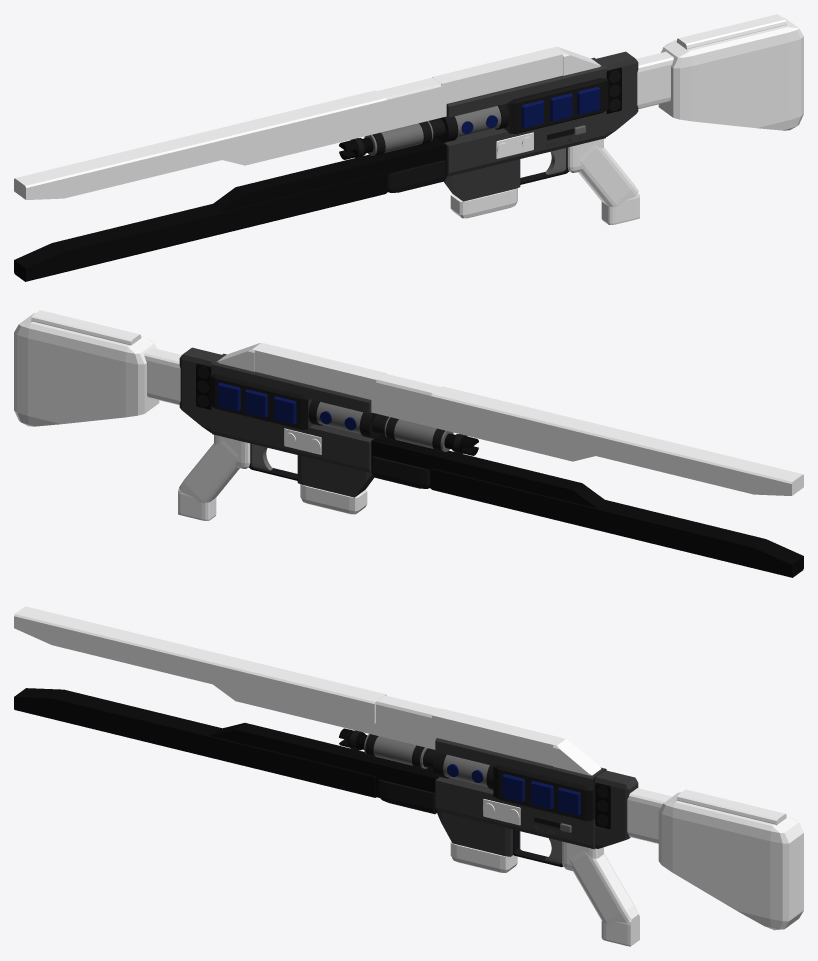
File: Plamsa Gun.fbx
The picture shows the model from 3 angles, top to bottom: view 1: azimuth 30°, elevation 25°; view 2: azimuth 150°, elevation 25°; view 3: azimuth 330°, elevation 25°; orthographic projection.
Visible parts, largest first — view 1: node_id64, node_id67, node_id58, node_id46, node_id37, node_id30, node_id52, node_id49, node_id61, node_id34, node_id43, node_id40; view 2: node_id64, node_id67, node_id58, node_id46, node_id37, node_id30, node_id52, node_id49, node_id61, node_id34, node_id43, node_id40; view 3: node_id58, node_id67, node_id64, node_id46, node_id37, node_id30, node_id52, node_id49, node_id61, node_id34, node_id43, node_id40.
Boxes of the visible parts, left/top/right/bottom form: node_id64: left=14, top=138, right=446, bottom=281; node_id67: left=14, top=77, right=456, bottom=199; node_id58: left=636, top=14, right=803, bottom=130; node_id46: left=444, top=51, right=638, bottom=176; node_id37: left=432, top=47, right=600, bottom=101; node_id30: left=567, top=138, right=639, bottom=224; node_id52: left=363, top=104, right=509, bottom=156; node_id49: left=444, top=159, right=520, bottom=201; node_id61: left=450, top=188, right=517, bottom=218; node_id34: left=520, top=147, right=569, bottom=184; node_id43: left=496, top=132, right=533, bottom=158; node_id40: left=606, top=67, right=621, bottom=113; node_id64: left=371, top=434, right=803, bottom=577; node_id67: left=371, top=373, right=803, bottom=495; node_id58: left=14, top=310, right=181, bottom=426; node_id46: left=179, top=347, right=373, bottom=472; node_id37: left=217, top=343, right=385, bottom=410; node_id30: left=178, top=434, right=250, bottom=520; node_id52: left=308, top=400, right=454, bottom=452; node_id49: left=297, top=455, right=373, bottom=497; node_id61: left=300, top=484, right=367, bottom=514; node_id34: left=248, top=443, right=297, bottom=480; node_id43: left=284, top=428, right=321, bottom=454; node_id40: left=196, top=363, right=211, bottom=409; node_id58: left=627, top=788, right=803, bottom=930; node_id67: left=14, top=606, right=446, bottom=749; node_id64: left=14, top=688, right=439, bottom=814; node_id46: left=435, top=738, right=638, bottom=849; node_id37: left=432, top=708, right=601, bottom=775; node_id30: left=562, top=841, right=639, bottom=946; node_id52: left=358, top=734, right=493, bottom=789; node_id49: left=437, top=811, right=520, bottom=856; node_id61: left=450, top=842, right=517, bottom=872; node_id34: left=513, top=829, right=563, bottom=867; node_id43: left=483, top=799, right=520, bottom=825; node_id40: left=595, top=782, right=610, bottom=828.
Size of the model in its own units: 0.512 by 0.1153 by 0.025.
